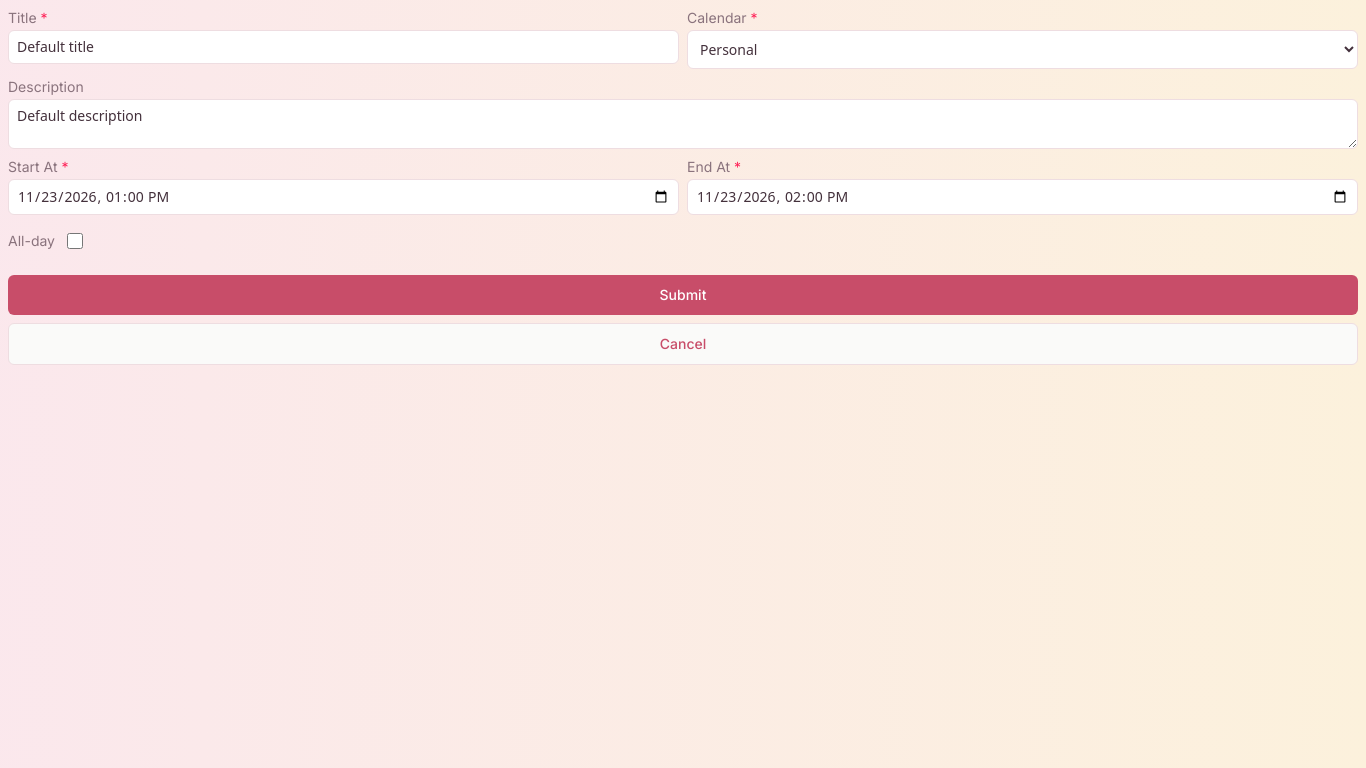
Test case: EventForm › Should transform datetime-local values to date when isAllDay is checked
The image size is (1366, 768).
Expected: the field labelled "Start At *" holds "2026-11-23T13:00", x1=8 y1=179 x2=679 y2=215
Expected: the field labelled "End At *" holds "2026-11-23T14:00", x1=687 y1=179 x2=1358 y2=215
Click the checkbox labelled "All-day". click: click(75, 241)
box: x1=67 y1=233 x2=83 y2=249
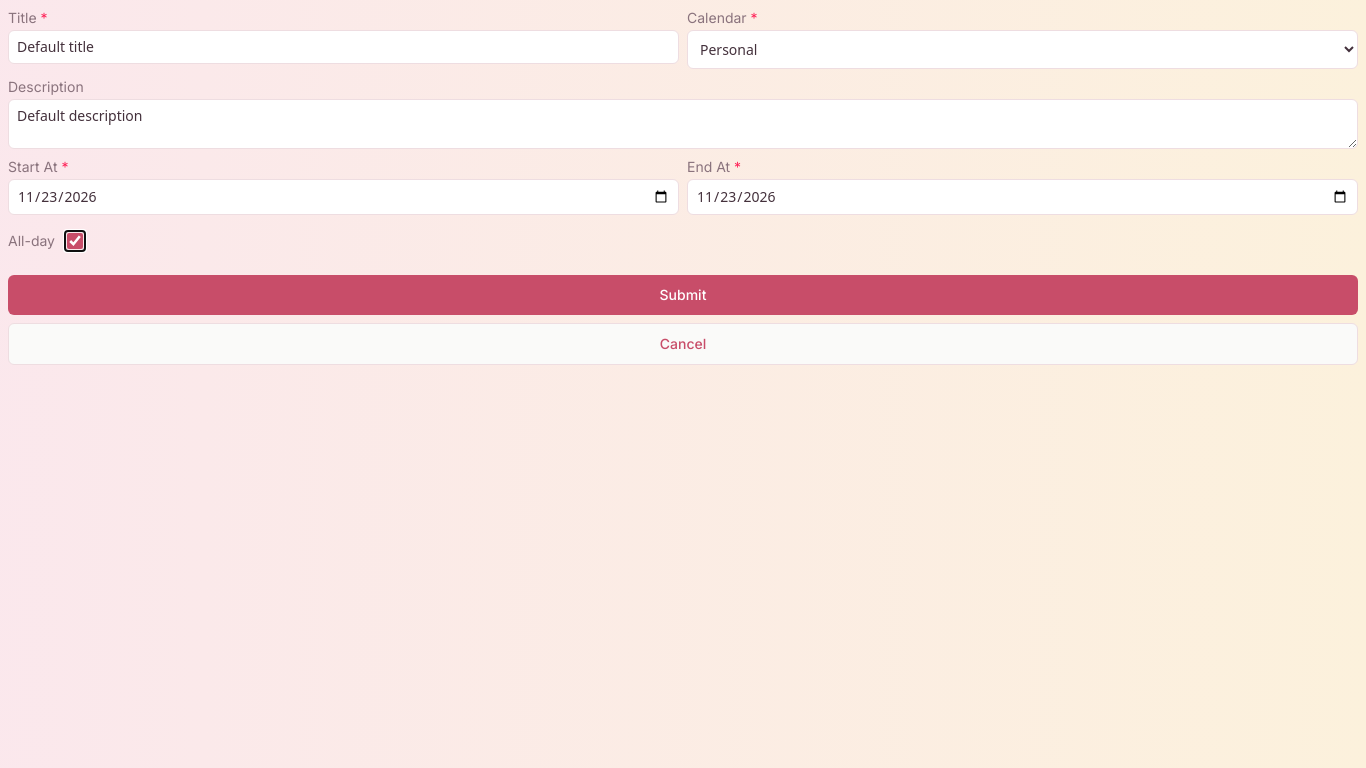
Expected: the date field labelled "Start At *" holds "2026-11-23", x1=8 y1=179 x2=679 y2=215
Expected: the date field labelled "End At *" holds "2026-11-23", x1=687 y1=179 x2=1358 y2=215
